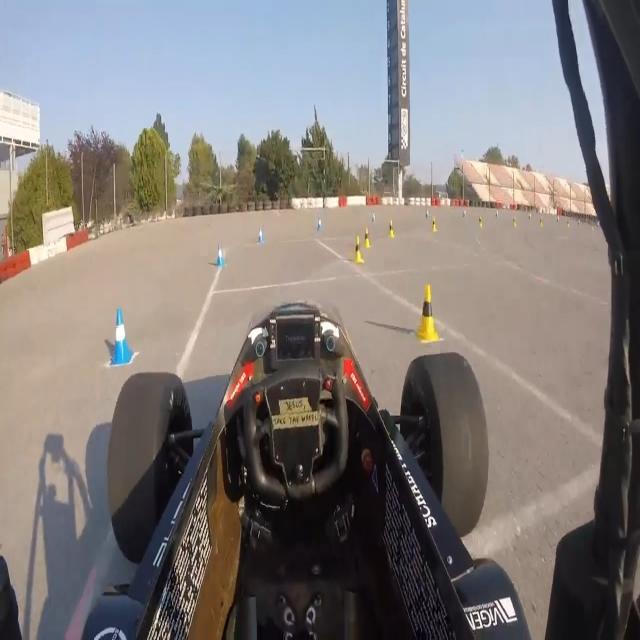blue_cone: (102, 298, 139, 373), (208, 240, 230, 272), (248, 225, 269, 252), (313, 210, 324, 238)
yellow_cone: (410, 282, 447, 344), (361, 217, 372, 251), (352, 232, 364, 262), (386, 212, 396, 240)
